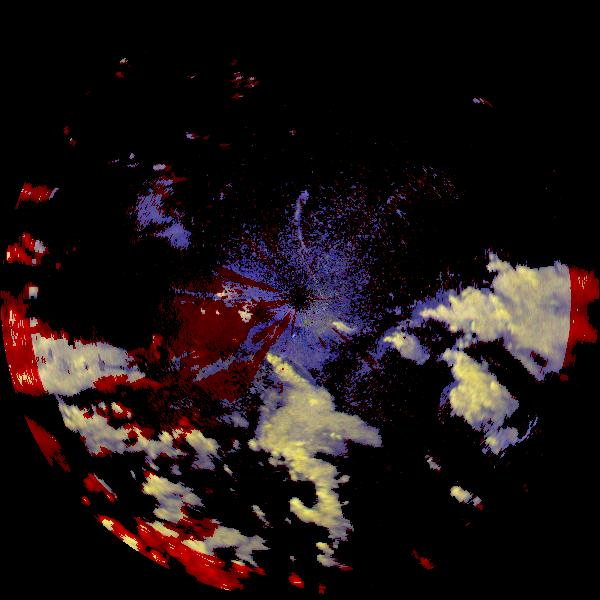roost: (157, 349, 181, 373)
